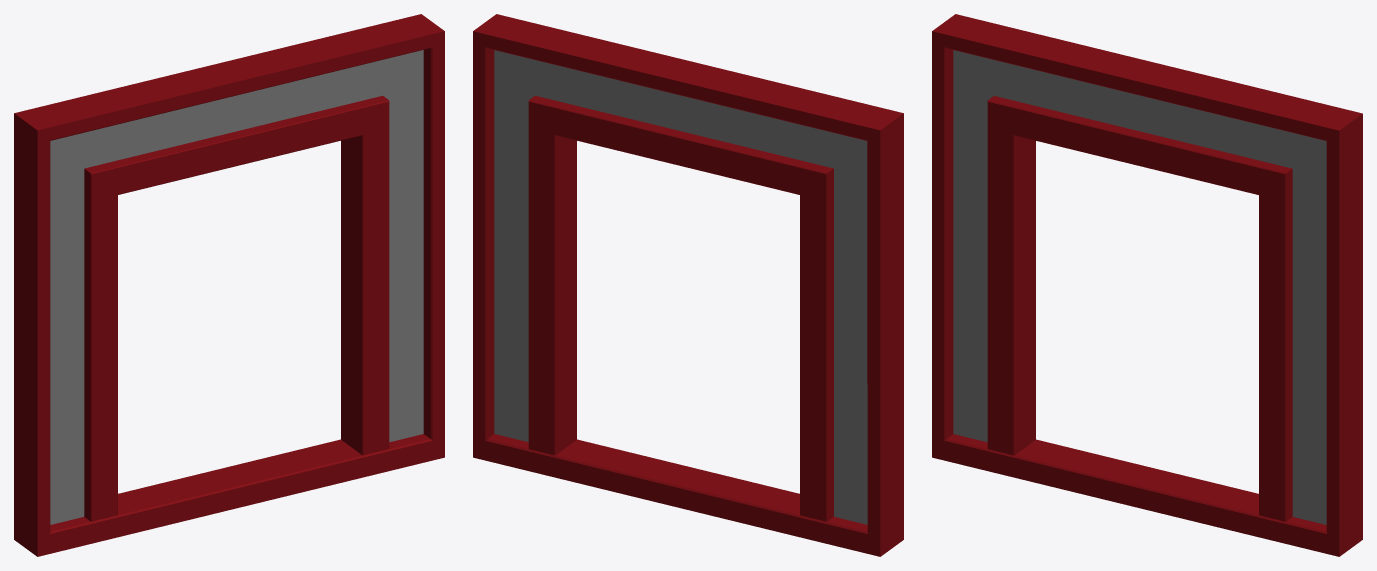
File: SM_MH_01_Wood_01_Wall_Door_01.fbx
3 renders of one model, left to right at view 1: azimuth 30°, elevation 25°; view 2: azimuth 150°, elevation 25°; view 3: azimuth 330°, elevation 25°, orthographic.
Visible parts, largest first — view 1: SM_MH_01_Wood_01_Wall_Door_01_LOD0; view 2: SM_MH_01_Wood_01_Wall_Door_01_LOD0; view 3: SM_MH_01_Wood_01_Wall_Door_01_LOD0.
Boxes of the visible parts, x1,y1,x2,y2 form: SM_MH_01_Wood_01_Wall_Door_01_LOD0: (14,14,444,556); SM_MH_01_Wood_01_Wall_Door_01_LOD0: (473,14,903,556); SM_MH_01_Wood_01_Wall_Door_01_LOD0: (932,14,1362,556).
Size of what is drawn, in the model's own units: 300 by 300 by 30.
